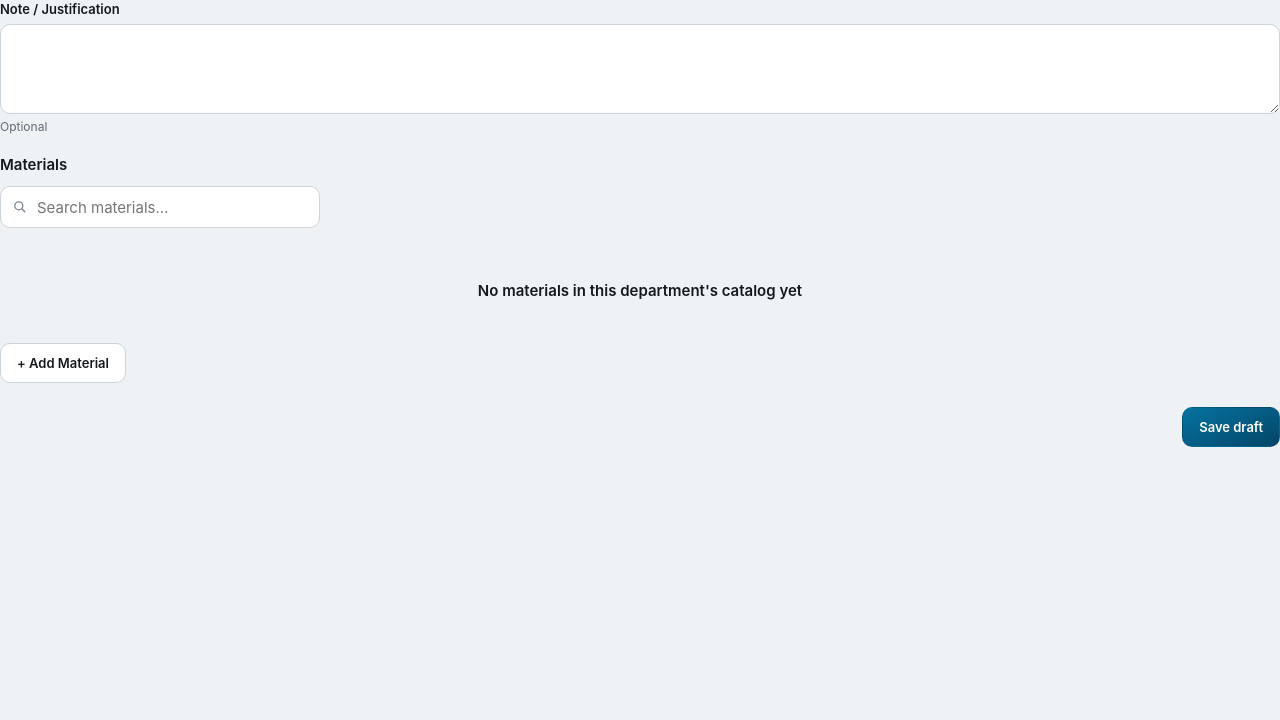
DemandForm — catalog picker › + Add Material reuses the Checkpoint 1 catalog dialog rather than a second implementation
Click the button "+ Add Material" at [63, 363], box [0,343,126,383]
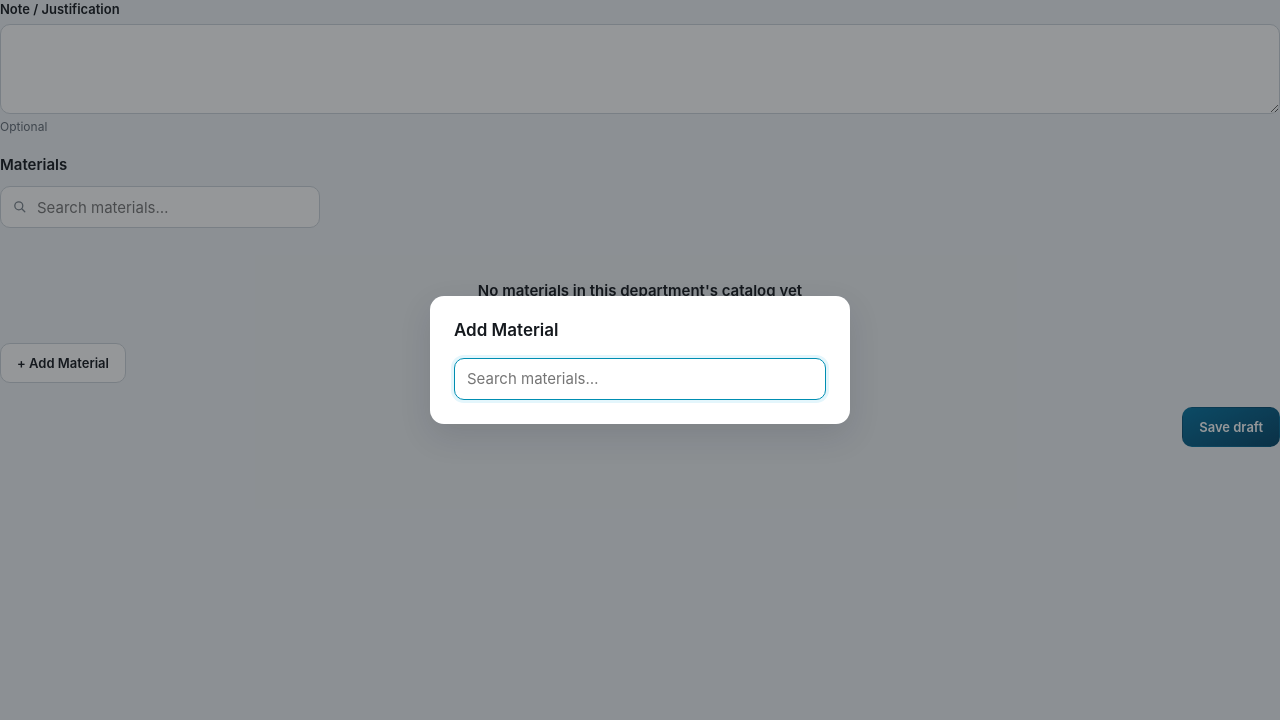
Now the dialog "Add Material" is shown, box [430,296,850,424]
